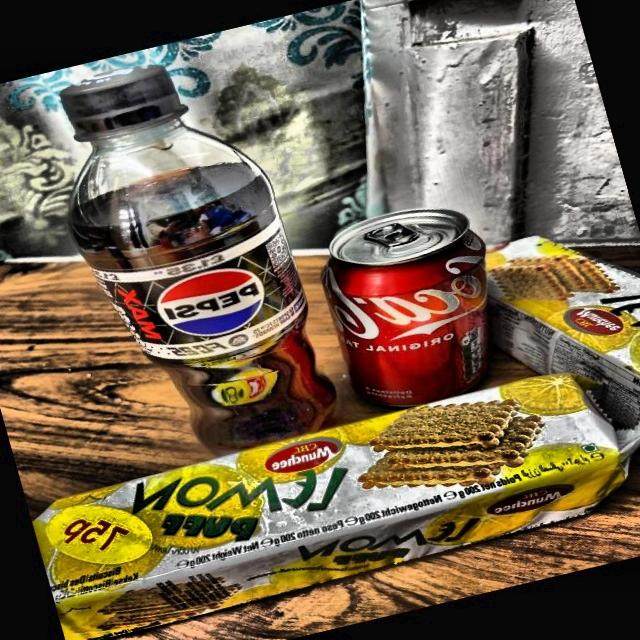coke-can: (322, 202, 481, 403)
lemon puff: (41, 386, 614, 630), (480, 230, 638, 417)
pepsi-bottle: (60, 70, 324, 451)
